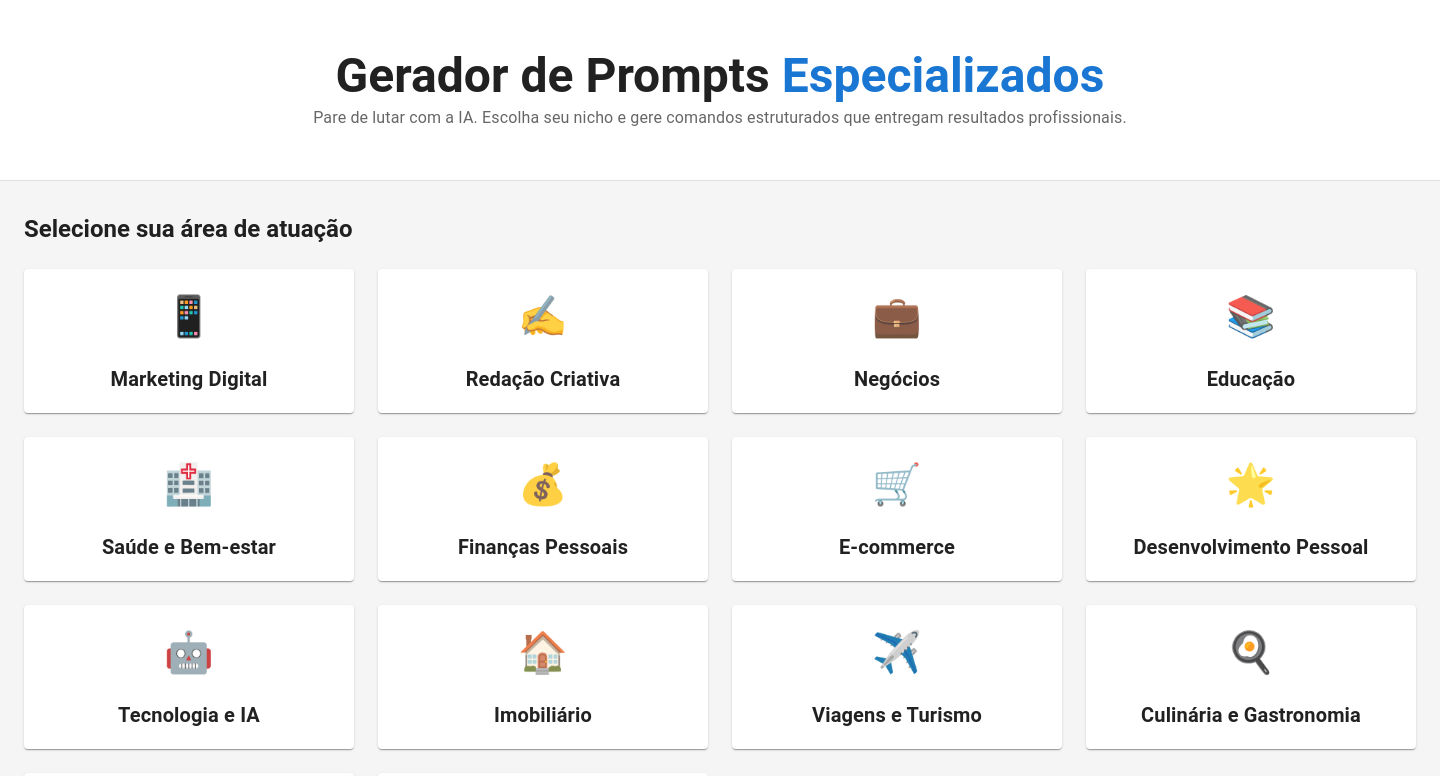
Test: Fluxo Completo do PromptGenerator › deve navegar para a seleção de opções ao clicar em uma categoria
What coordinates should you click on to do the following:
click the text "Marketing Digital"
I would click on:
 (189, 379)
Its box is [110,367,267,391].
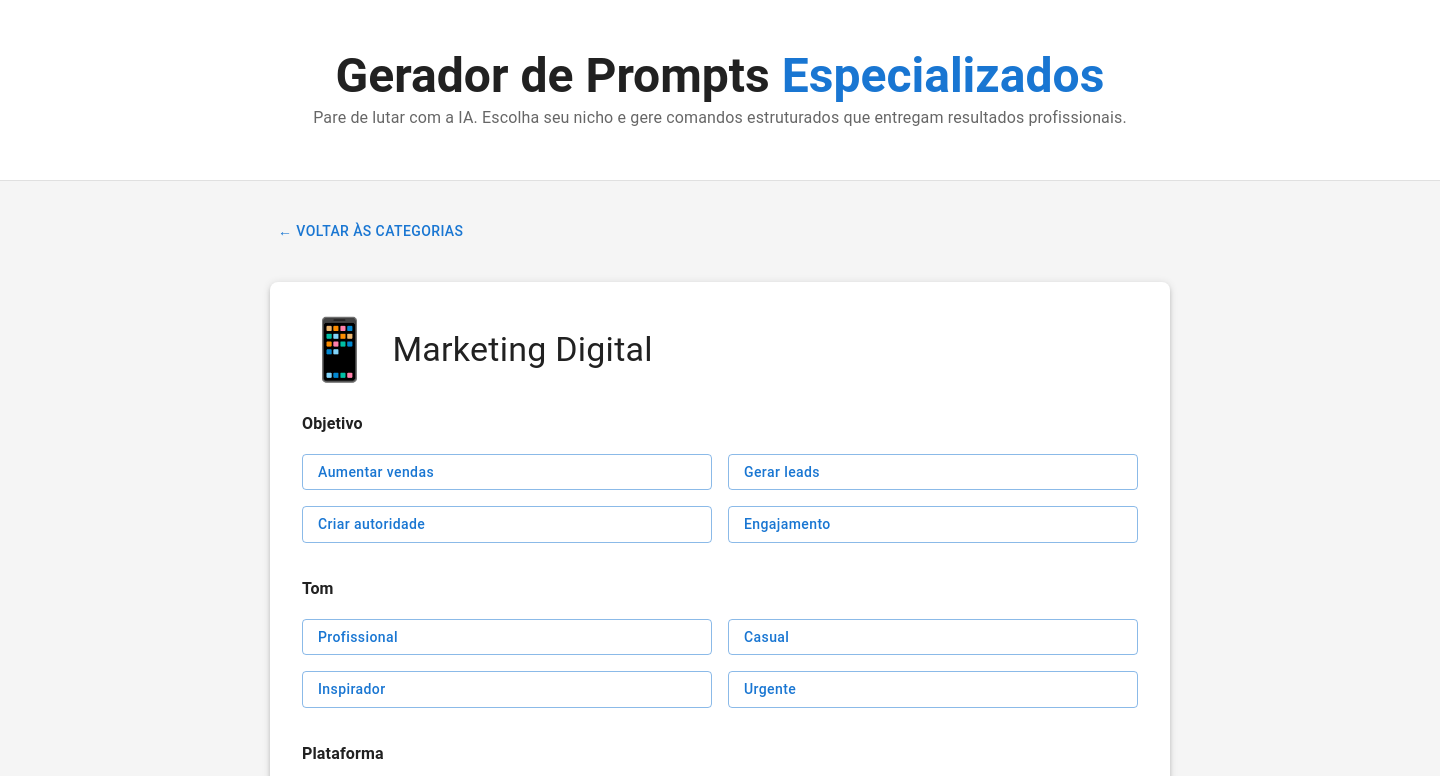
Expected: the heading "Marketing Digital" is shown, [392,328,653,370]
Now the heading "Selecione sua área de atuação" is gone
Now the heading "objetivo" is shown, box [302,414,363,432]
